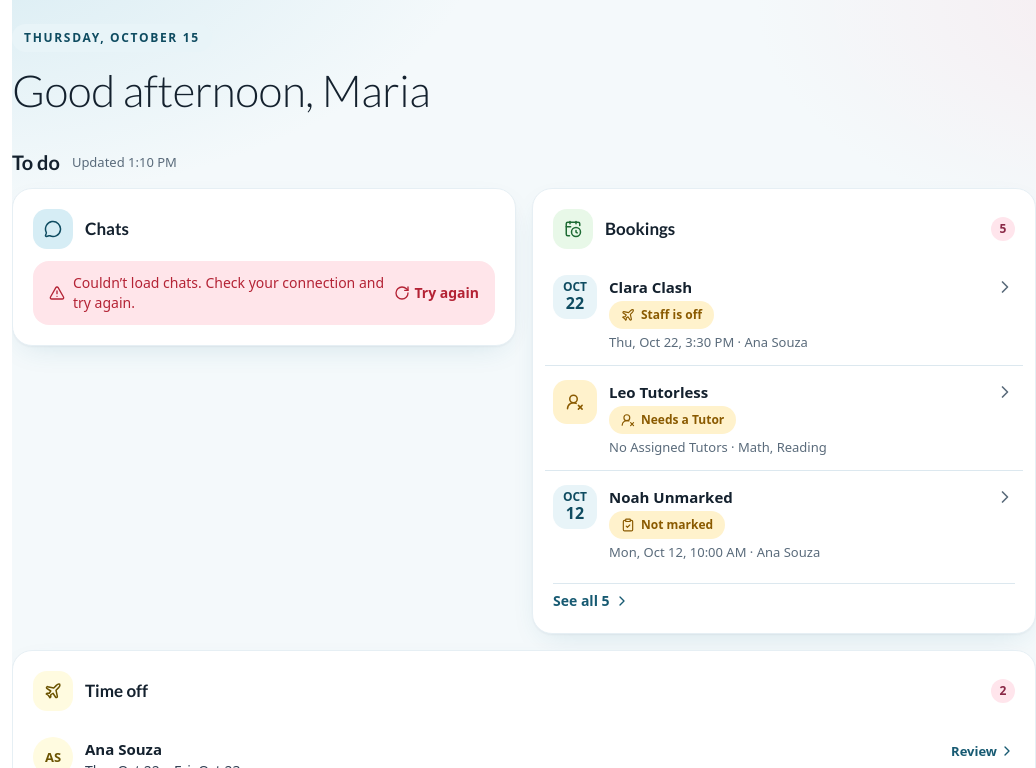
card states › fails one card alone, with its own Try again
The image size is (1036, 768).
Expected: the text "Clara Clash" is shown, [609,275,692,299]
Expected: the text "Ana Souza" is shown, [85,737,162,761]
Click the button "Try again" at (437, 293), box [394,271,479,315]
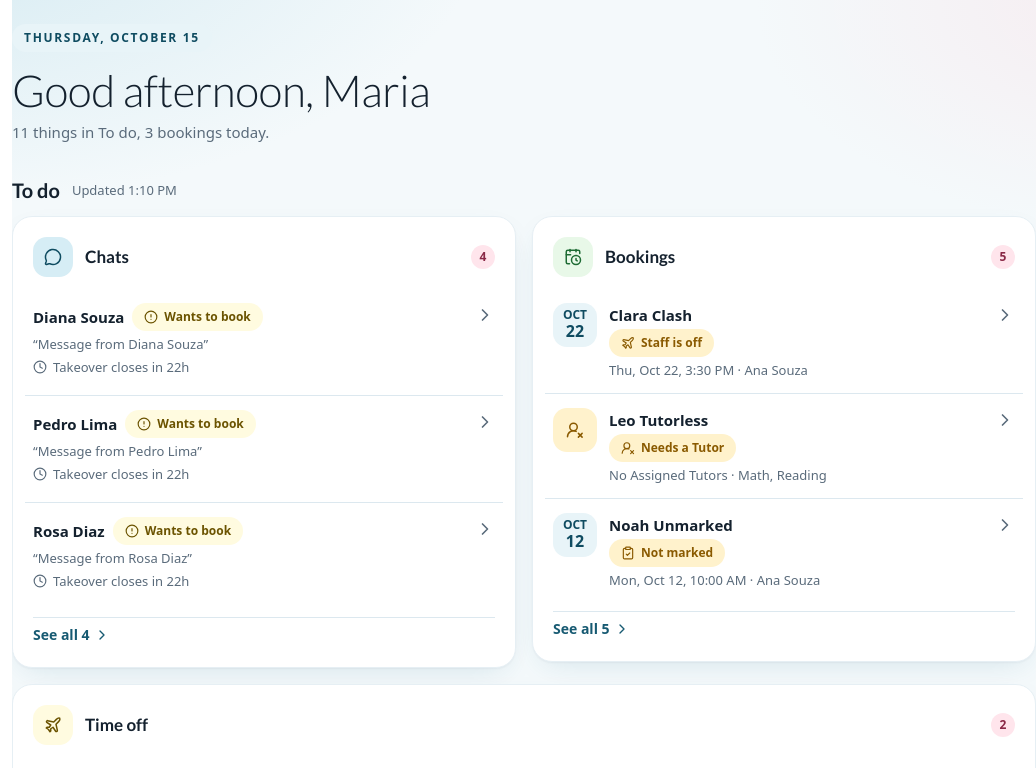
Now the text "Diana Souza" is shown, box [33,305,124,329]
